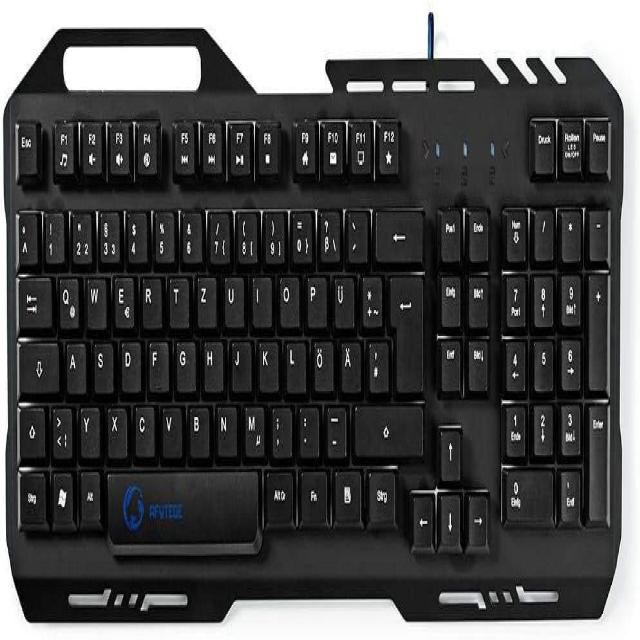0: (288, 202, 312, 263)
1: (41, 205, 63, 261)
2: (69, 203, 91, 263)
3: (96, 203, 119, 261)
4: (124, 203, 146, 261)
5: (151, 202, 173, 261)
6: (178, 203, 201, 261)
7: (206, 203, 229, 263)
8: (233, 203, 257, 263)
9: (260, 203, 284, 263)
a: (63, 333, 84, 391)
accent: (344, 202, 367, 260)
ae: (338, 333, 360, 389)
alt-left: (78, 464, 99, 521)
altgr-right: (263, 463, 292, 519)
b: (185, 397, 208, 455)
c: (131, 397, 154, 454)
caret: (14, 203, 36, 263)
comma: (269, 397, 290, 455)
d: (117, 333, 140, 389)
del: (372, 202, 421, 260)
e: (111, 268, 133, 326)
enter: (386, 266, 421, 389)
f: (146, 333, 167, 389)
g: (173, 333, 194, 389)
h: (201, 333, 222, 389)
hash: (364, 332, 387, 390)
i: (249, 269, 270, 322)
j: (228, 332, 250, 390)
k: (256, 333, 278, 389)
keyboard: (6, 73, 624, 594)
l: (283, 333, 304, 389)
less: (49, 397, 71, 455)
m: (241, 397, 263, 455)
minus: (323, 397, 345, 455)
n: (213, 397, 236, 454)
o: (276, 267, 298, 324)
oe: (309, 332, 332, 390)
p: (303, 267, 325, 324)
plus: (359, 267, 381, 324)
point: (296, 397, 317, 454)
q: (55, 267, 78, 327)
r: (139, 269, 161, 325)
s: (90, 335, 112, 390)
shift-left: (16, 399, 44, 457)
shift-lock: (16, 335, 59, 393)
shift-right: (352, 397, 422, 455)
space: (107, 460, 259, 541)
ss: (316, 202, 339, 261)
strg-left: (16, 463, 45, 522)
strg-right: (365, 462, 394, 520)
t: (166, 267, 187, 324)
tab: (14, 269, 50, 327)
u: (221, 269, 243, 324)
ue: (330, 267, 352, 327)
v: (159, 397, 181, 455)
w: (83, 268, 105, 326)
x: (105, 399, 126, 455)
y: (78, 399, 99, 455)
z: (194, 267, 215, 324)
